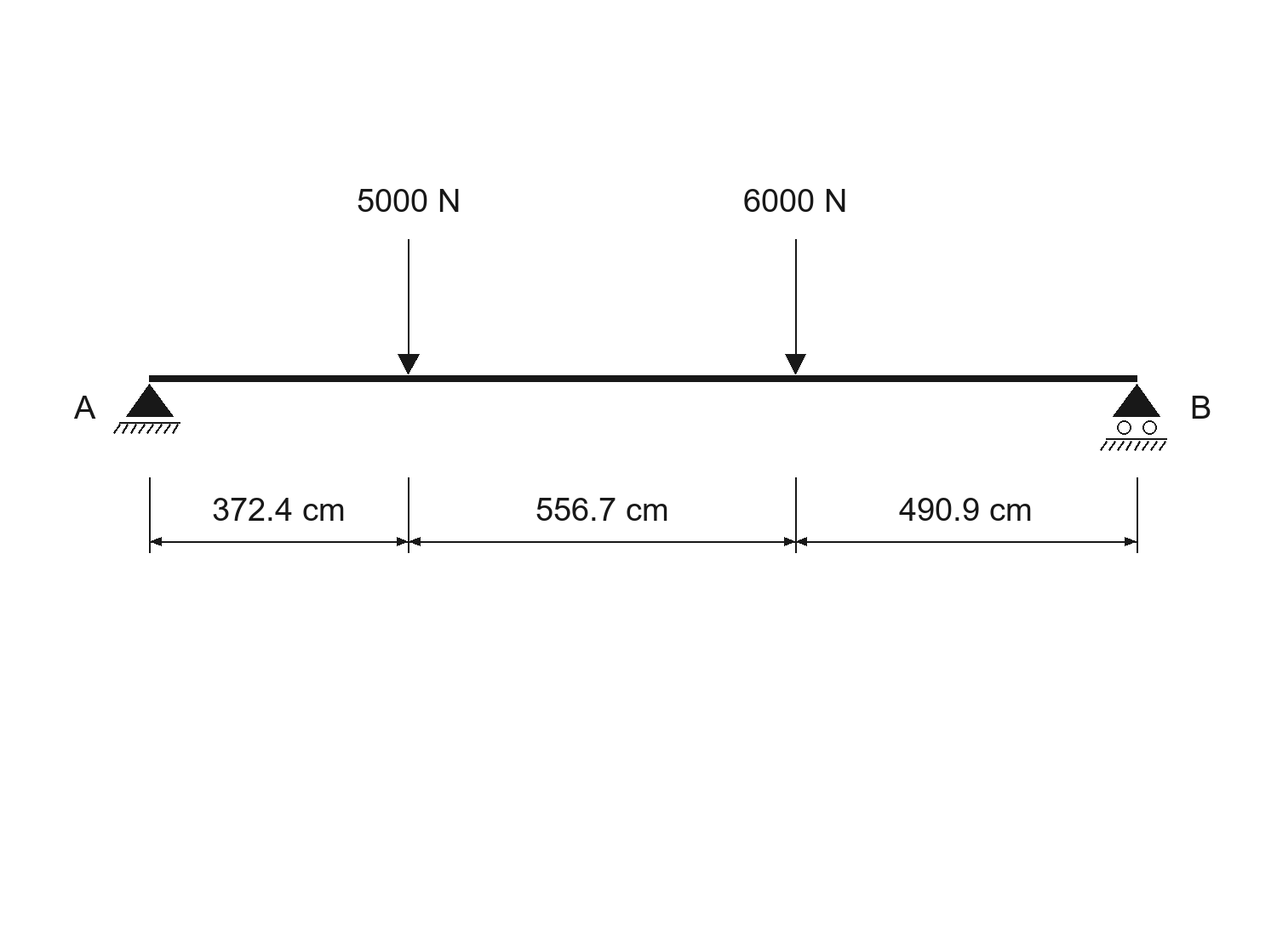pin_support: (113, 384, 180, 434)
point_load: (398, 239, 420, 374), (785, 239, 806, 374)
roller_support: (1100, 384, 1167, 451)
